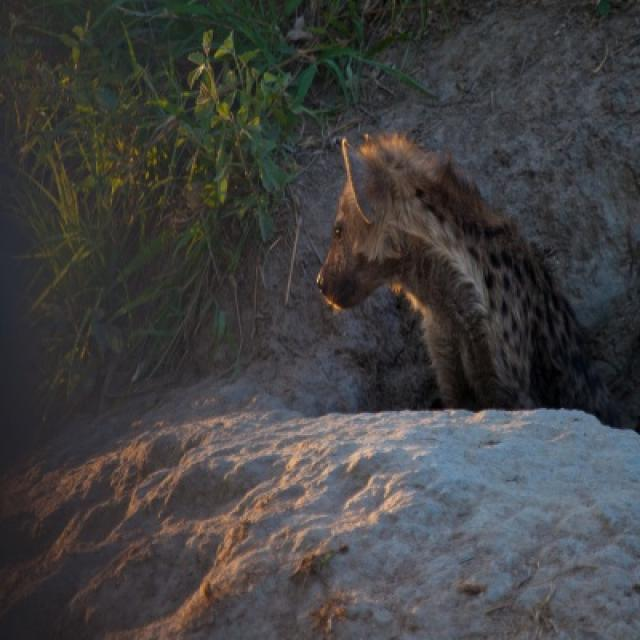hyena: (315, 133, 626, 429)
